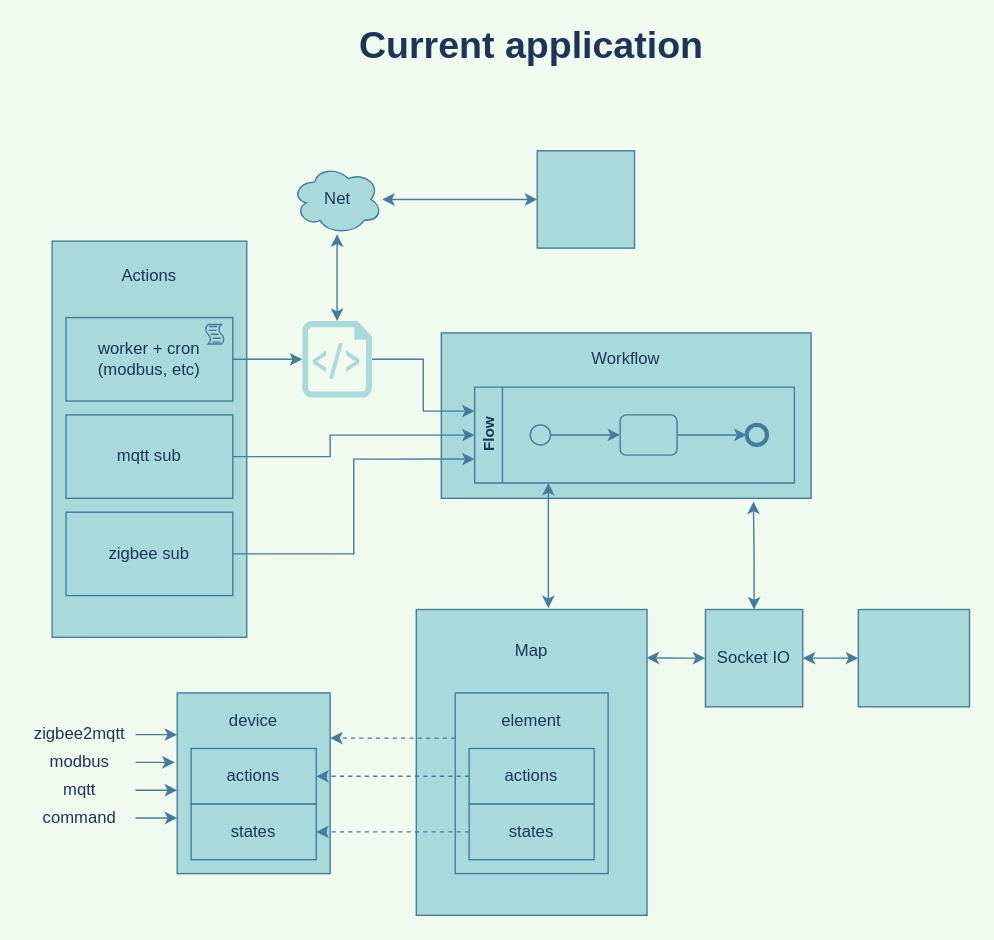
Image size: 994x940. Some labels were removed from this diagram. The box of each missing label's shape, as (x1, y1, x2, y2) in pixels:
Dashboard: (857, 608, 970, 707)
Node: (536, 149, 635, 248)
script: (302, 320, 371, 397)
Task: (619, 414, 677, 455)
